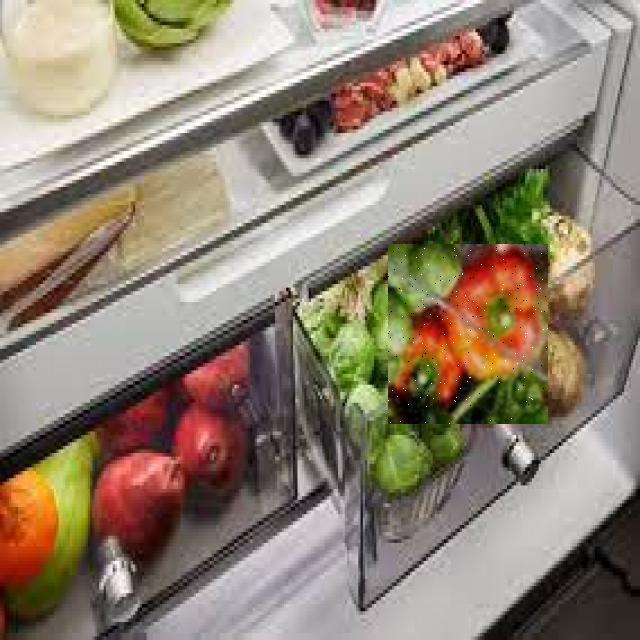Bell Peppers: (388, 244, 548, 424)
